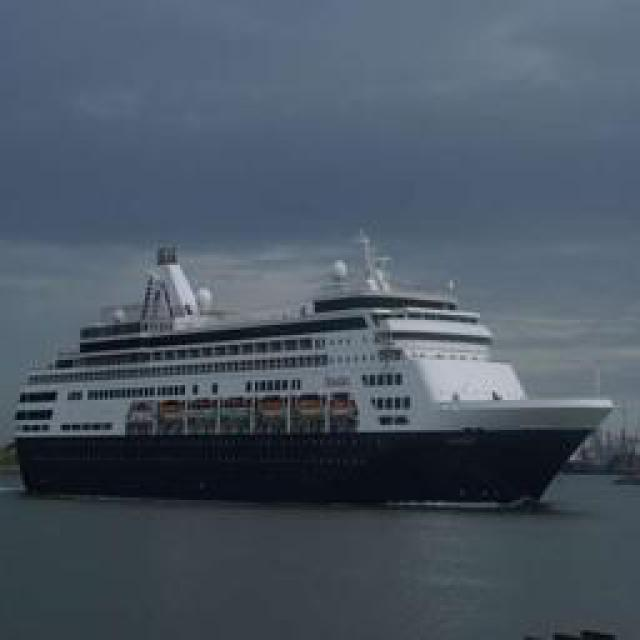Ship: (16, 224, 629, 497)
